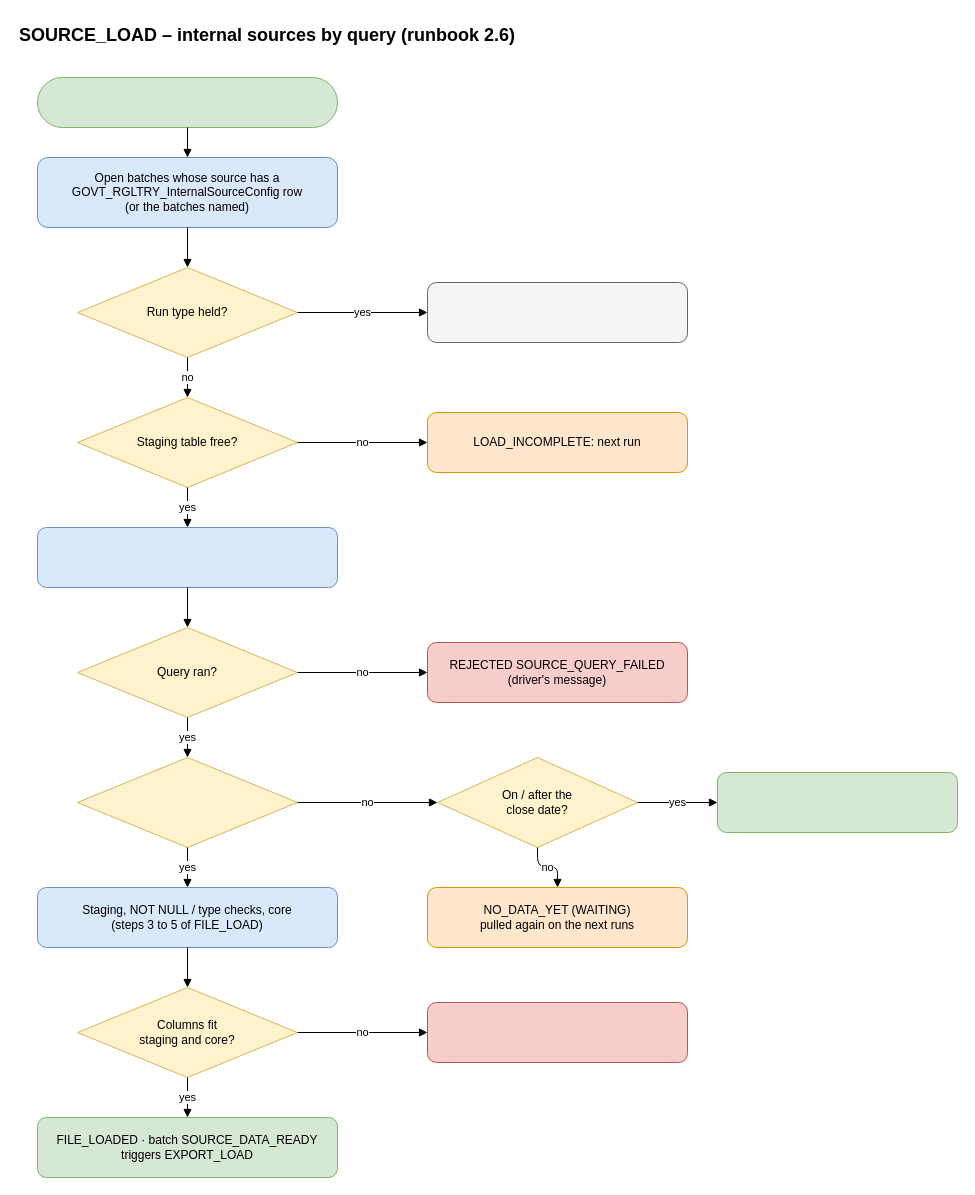
Some shapes in this 975 by 1195 pixel diagram are drawn without their labels. The shapes that lost their labels are listed below. From the top down, each one's centre as x and y in pixels, then its label:
(187,102): SOURCE_LOAD run (scope, batch, release, hold)
(557,312): held: listed in the report
(187,557): Run Src_Sql_Txt on the source connection (SQL logged with its parameters)
(187,802): Rows returned?
(837,802): FILE_LOADED SOURCE_DATA_READY_NO_DATA
(557,1032): REJECTED SOURCE_DATA_REJECTED / CORE_TYPE_MISMATCH
